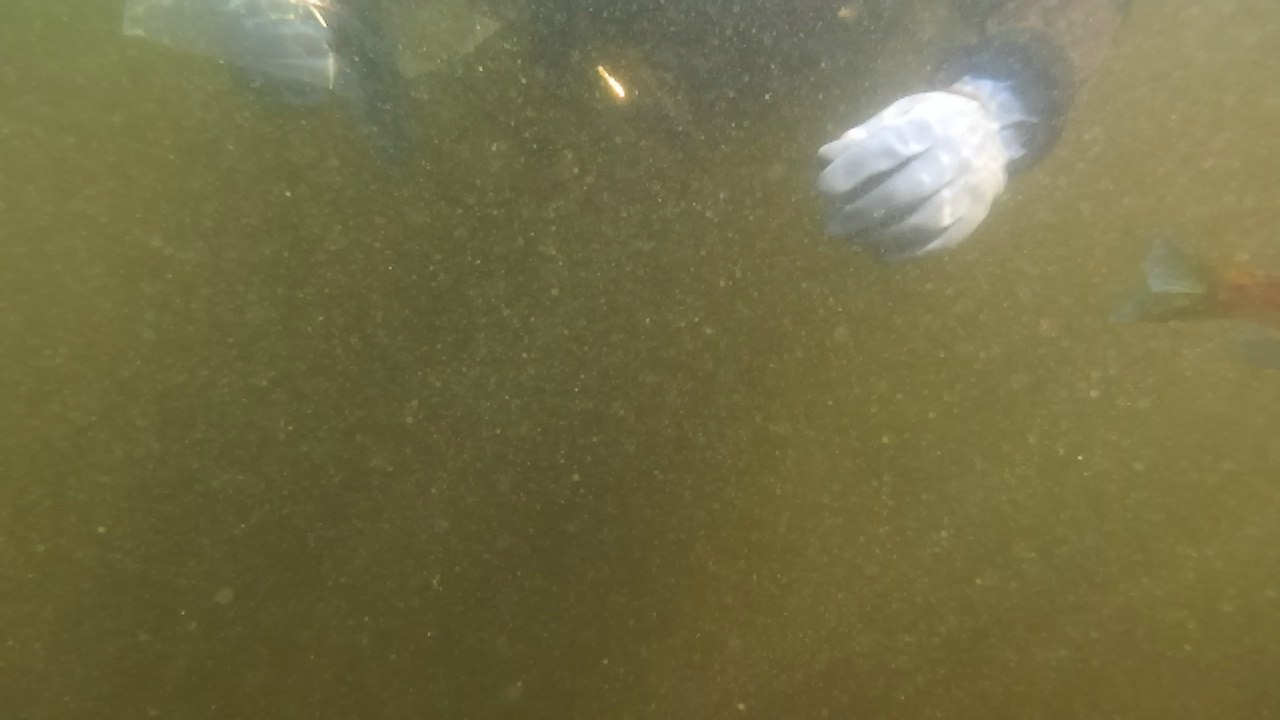Diver: (222, 0, 1130, 280)
Hand: (810, 74, 1016, 270)
